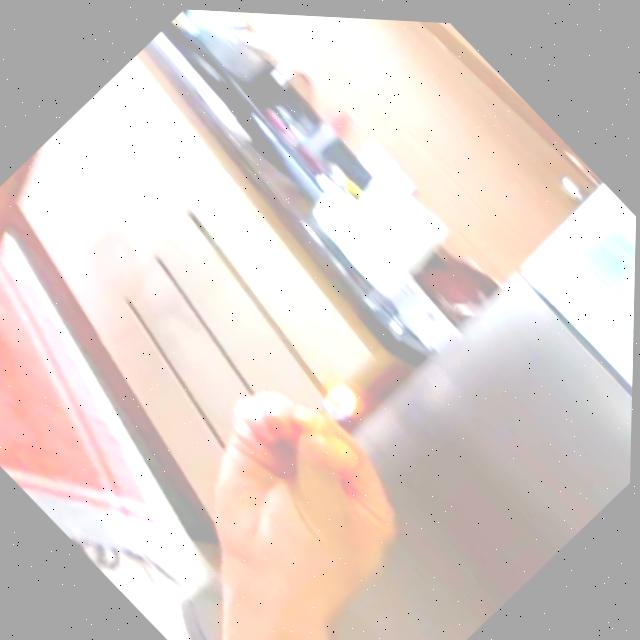Fire: (316, 371, 371, 428)
